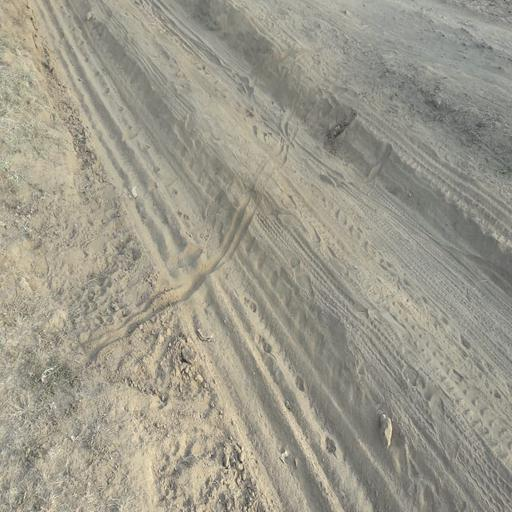vehicle_track: (34, 0, 512, 512)
